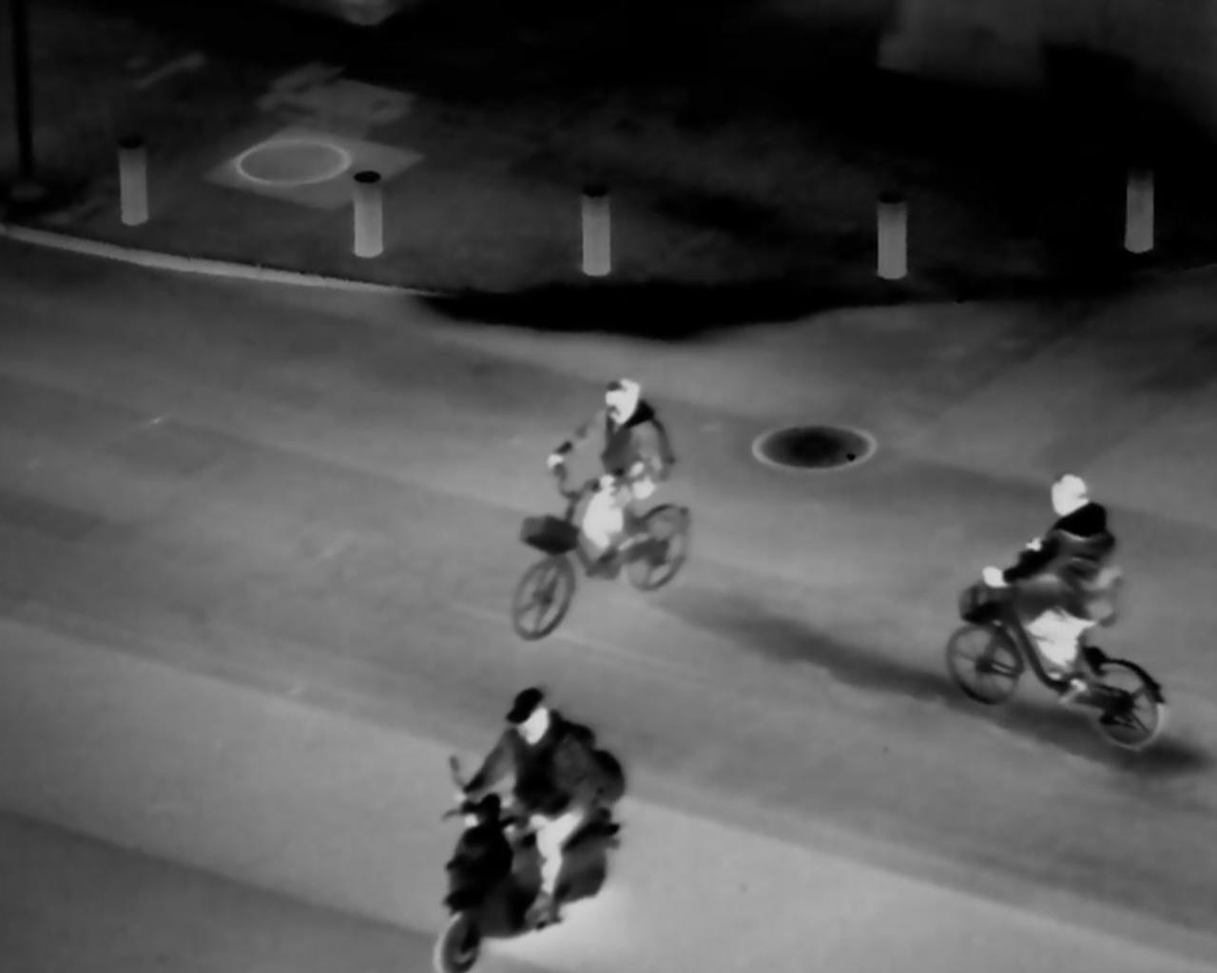person: (977, 458, 1128, 699), (476, 667, 608, 922), (538, 364, 666, 593)
